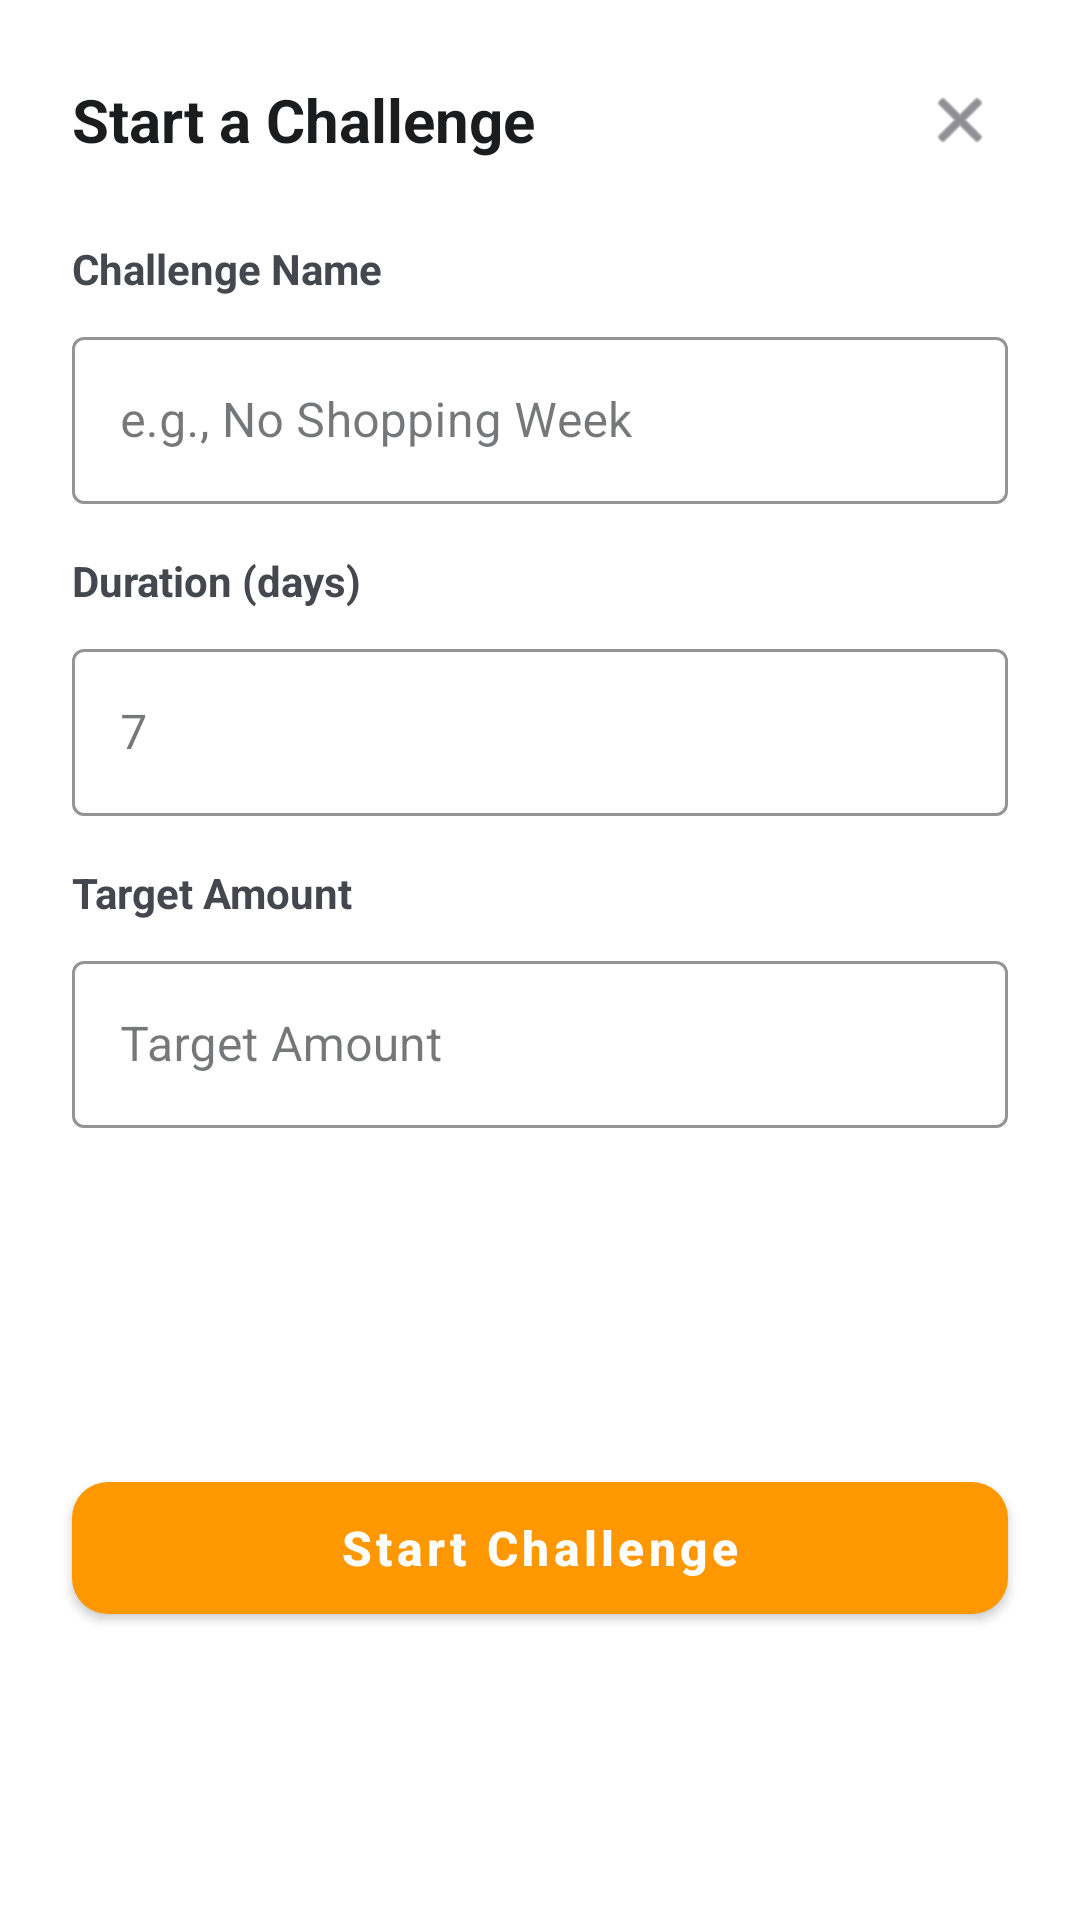

Icons on this 1080px x 1920px Android screen, each with the point to tap as point (x, y):
Close: point (960, 120)
